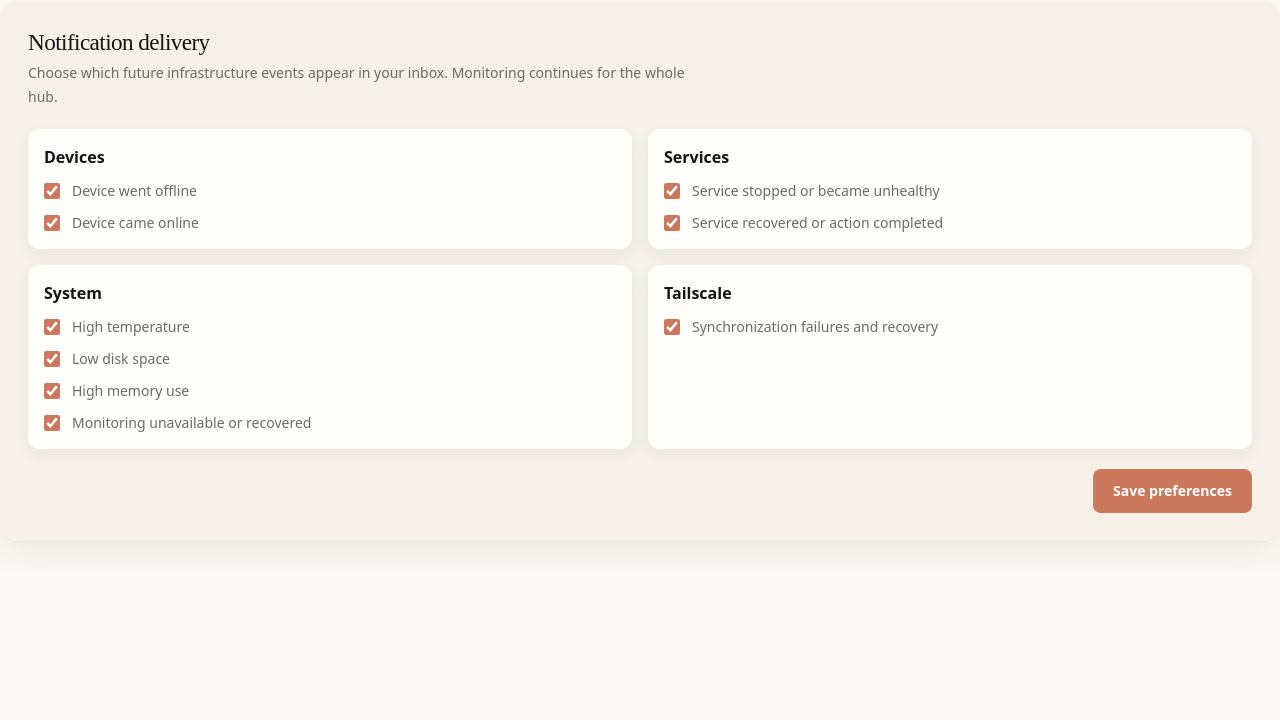
Test case: NotificationSettingsPage › loads and saves per-account event preferences
The width and height of the screenshot is (1280, 720).
Click the checkbox labelled "Device went offline".
click(52, 191)  # box [44,183,60,199]
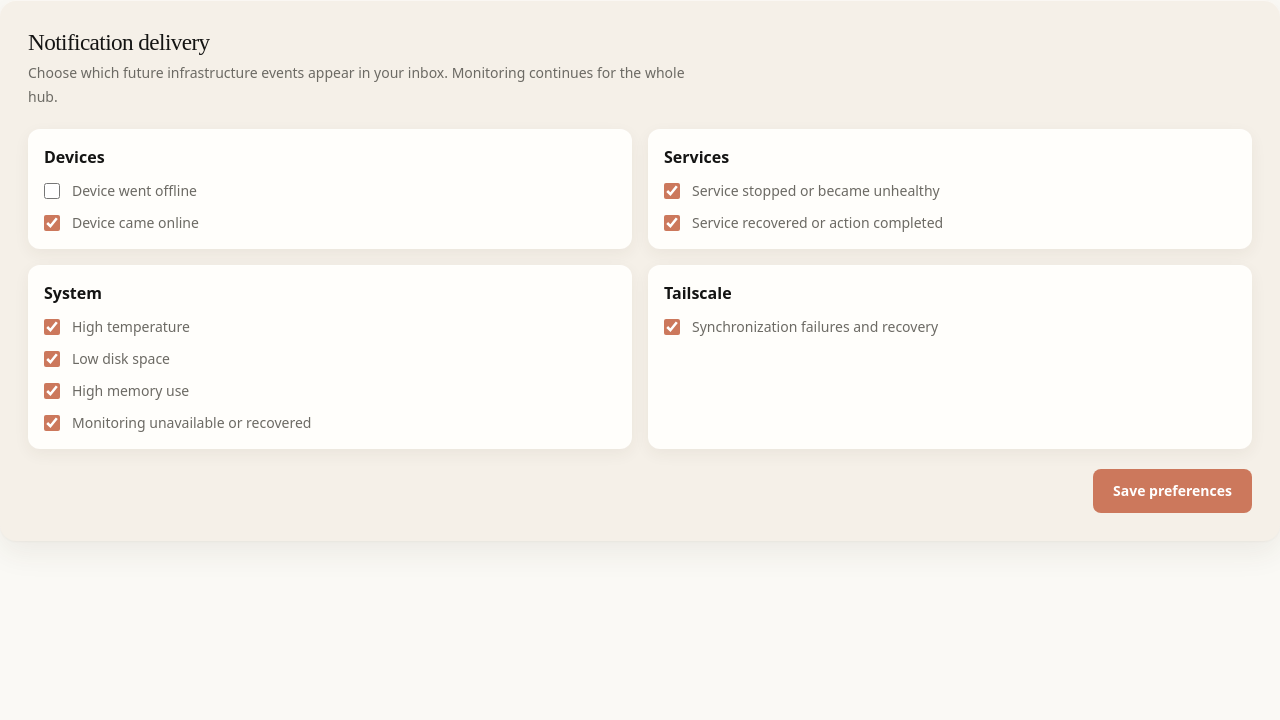
Click the button "Save preferences".
click(1173, 491)  # box [1093,469,1252,513]
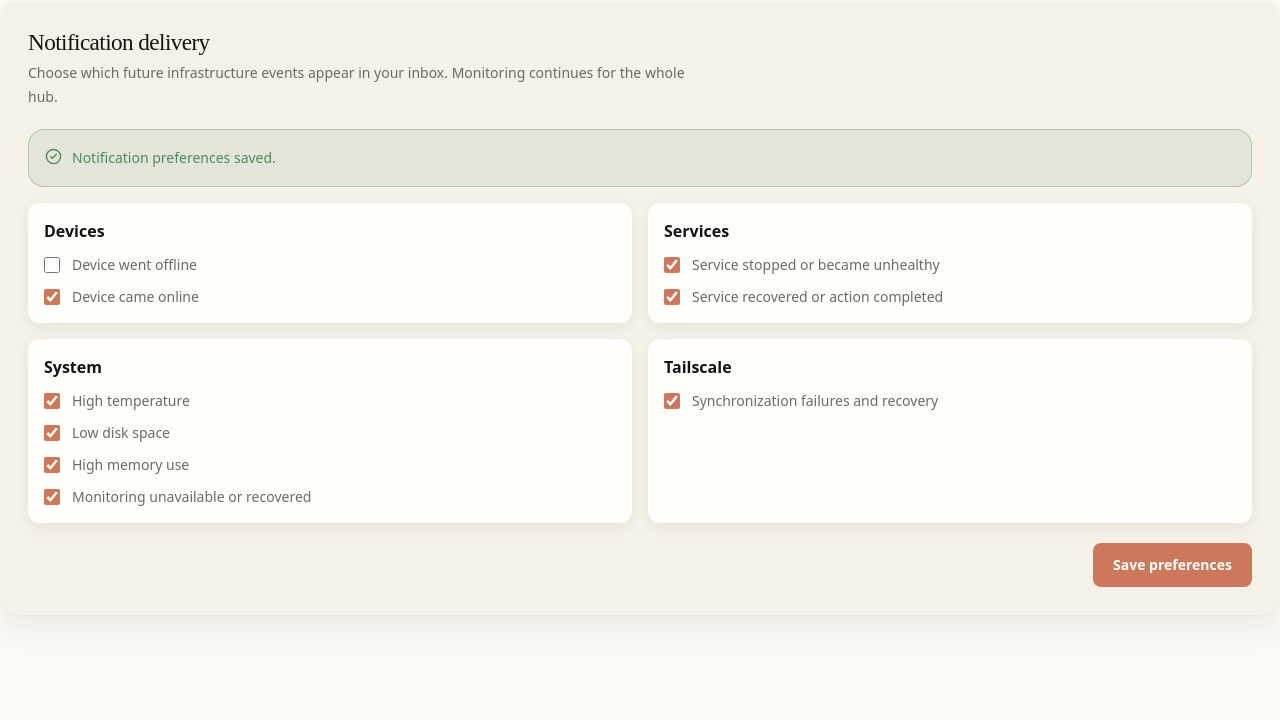
Check: the text "Notification preferences saved." is shown, box [72,148,276,167]
